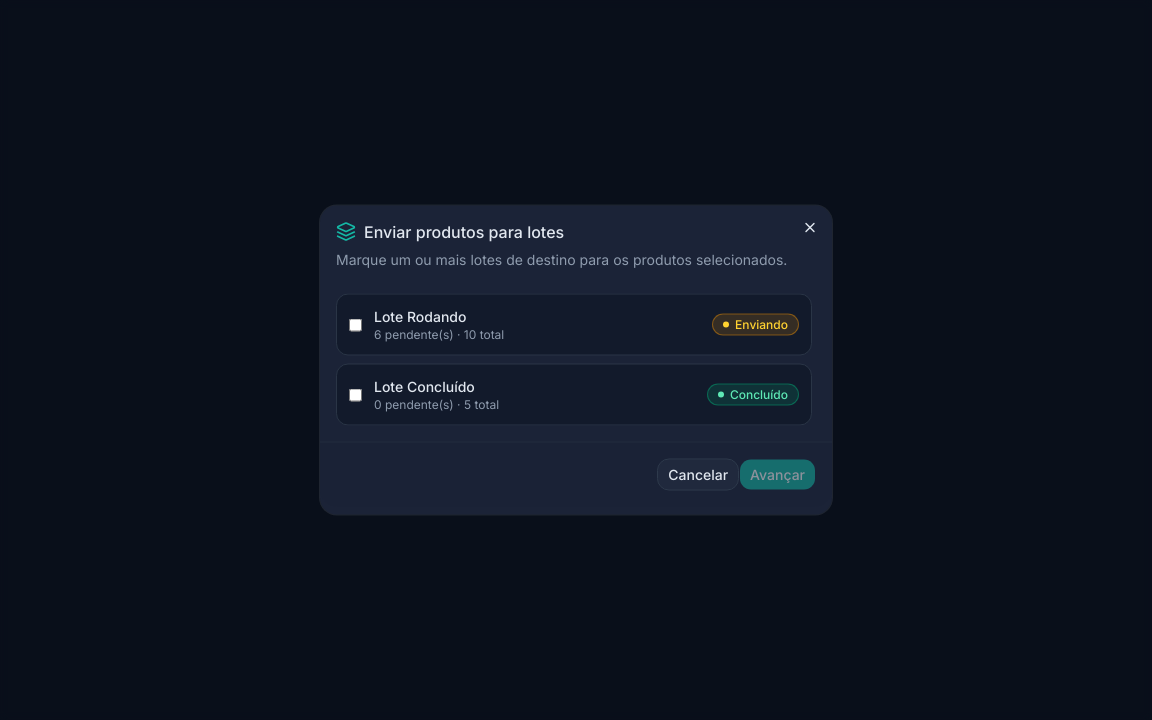
SendToBatchDialog › desmarcar o único lote volta a desabilitar o Avançar
Click the checkbox labelled "Lote Rodando 6 pendente(s) · 10 total Enviando".
click(356, 324)  # box [349,318,362,331]
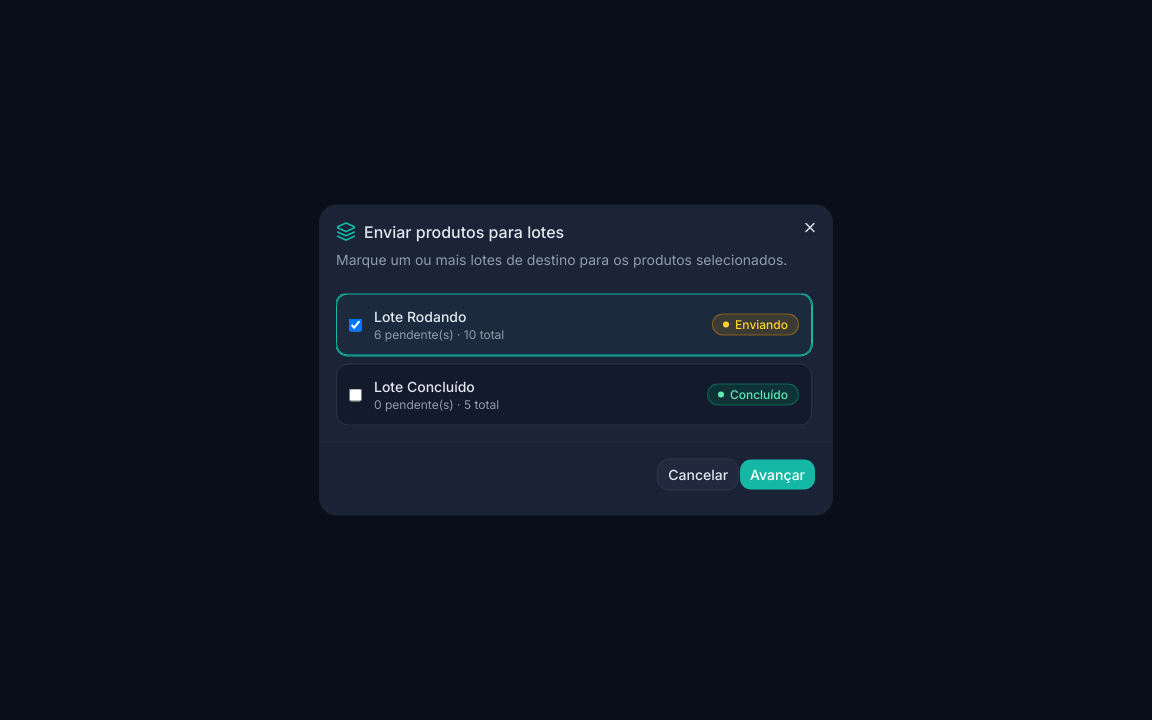
Result: the button "Avançar" is enabled at [739,458,816,490]
Click the checkbox labelled "Lote Rodando 6 pendente(s) · 10 total Enviando".
click(356, 324)  # box [349,318,362,331]
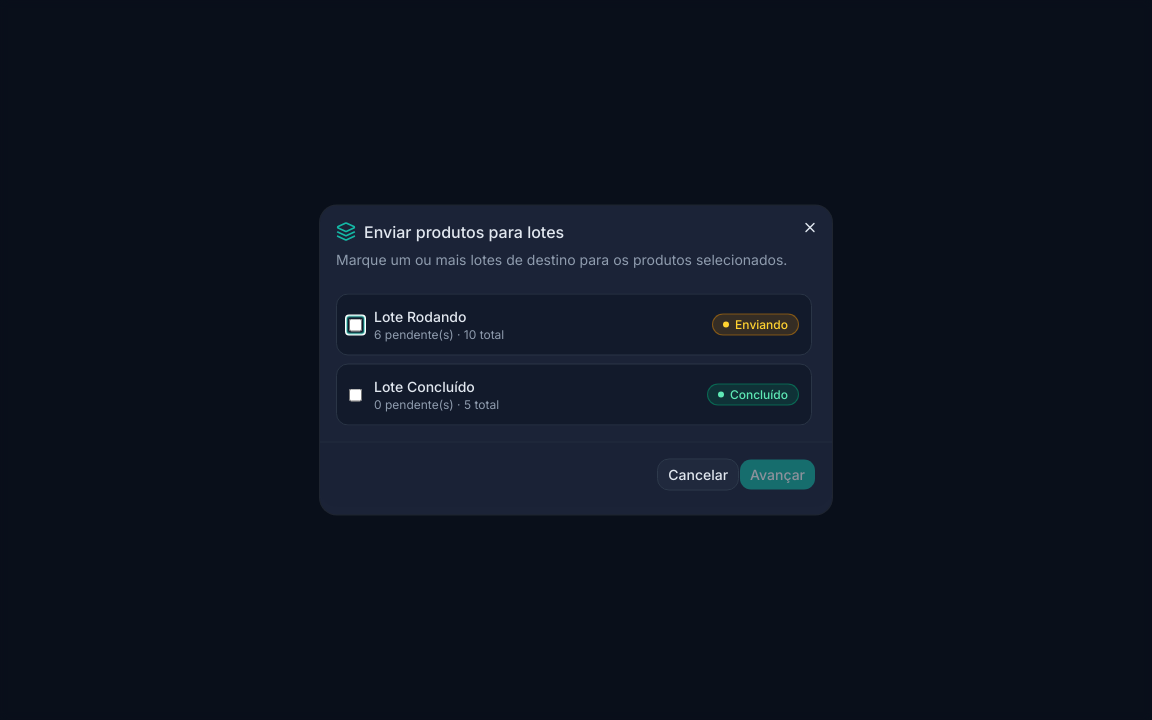
Result: the button "Avançar" is disabled at [739,458,816,490]
